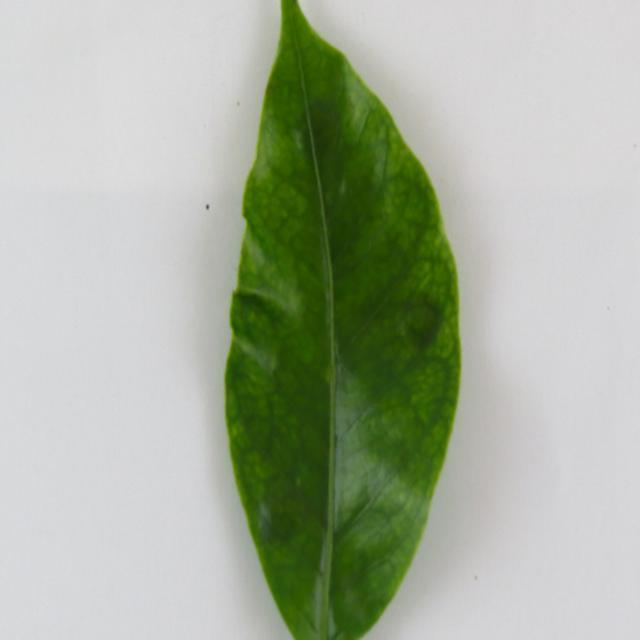DeficienciaNutricional-Manganeso: (225, 2, 460, 638)
